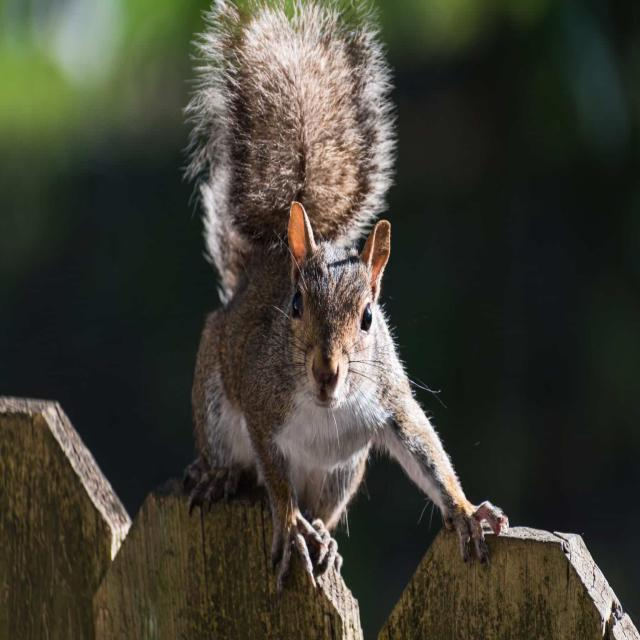Squirrel: (189, 5, 509, 583)
